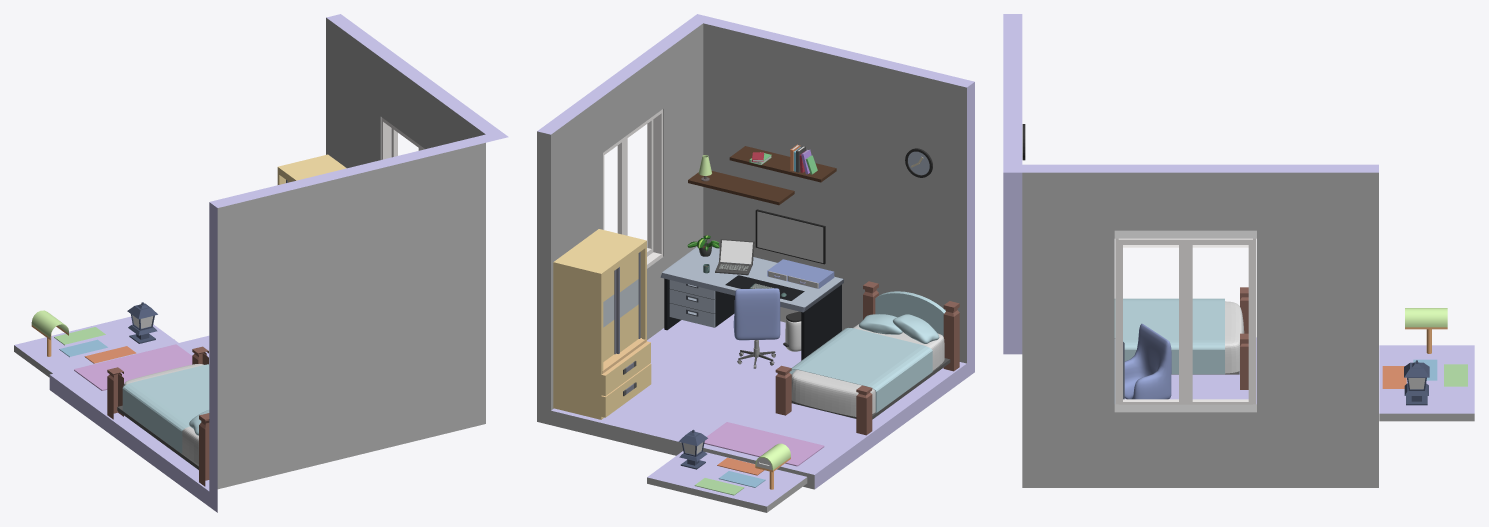
File: room.glb
3 views of the same model, side by side, from view 1: azimuth 30°, elevation 25°; view 2: azimuth 150°, elevation 25°; view 3: azimuth 270°, elevation 25° (orthographic). The views are drawn at different scales.
Parts seen in each view (by area): view 1: Wall, BedSheet, Floor.002, Mat, WardrobeBody, BedLeg, Bed, BedLeg.001, Lamp, WindowFrame, MailBox; view 2: Wall, WardrobeBody, BedSheet, Floor.002, WindowFrame, Cube, Bed, Monitor.001, ChairRest, Mat, Table-Leg, WardrobeDoor (+21 smaller); view 3: Wall, WindowFrame, BedSheet, Floor.002, ChairRest, Bed, MailBox, Lamp, BedLeg, Plane.002, Plane.
Part boxes in pixels (x1,y1,x2,y2): Wall: (49, 14, 508, 512); BedSheet: (122, 364, 209, 453); Floor.002: (14, 316, 178, 377); Mat: (74, 344, 192, 390); WardrobeBody: (277, 154, 346, 184); BedLeg: (107, 346, 208, 419); Bed: (123, 364, 203, 464); BedLeg.001: (199, 413, 209, 486); Lamp: (127, 302, 157, 343); WindowFrame: (381, 117, 424, 159); MailBox: (31, 310, 68, 339); Wall: (537, 14, 974, 489); WardrobeBody: (553, 229, 646, 419); BedSheet: (789, 328, 932, 412); Floor.002: (647, 451, 807, 512); WindowFrame: (603, 109, 662, 267); Cube: (660, 247, 843, 312); Bed: (791, 324, 944, 416); Monitor.001: (757, 211, 823, 262); ChairRest: (733, 288, 780, 340); Mat: (704, 422, 824, 466); Table-Leg: (664, 278, 841, 360); WardrobeDoor: (616, 252, 640, 353); Wall: (1003, 14, 1378, 487); WindowFrame: (1115, 238, 1256, 404); BedSheet: (1114, 298, 1224, 374); Floor.002: (1379, 345, 1474, 421); ChairRest: (1124, 323, 1171, 399); Bed: (1225, 301, 1244, 373); MailBox: (1405, 308, 1447, 329); Lamp: (1404, 360, 1429, 405); BedLeg: (1240, 287, 1248, 389); Plane.002: (1444, 364, 1467, 386); Plane: (1382, 366, 1406, 388).
Size of the model in its own units: 20.71 by 20.71 by 25.98.
